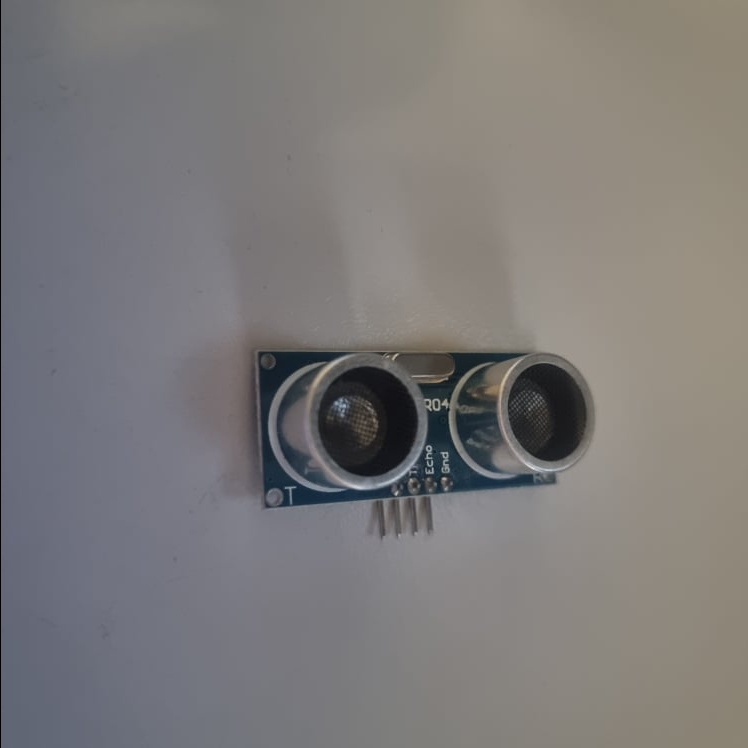SENSOR: (253, 344, 595, 541)
